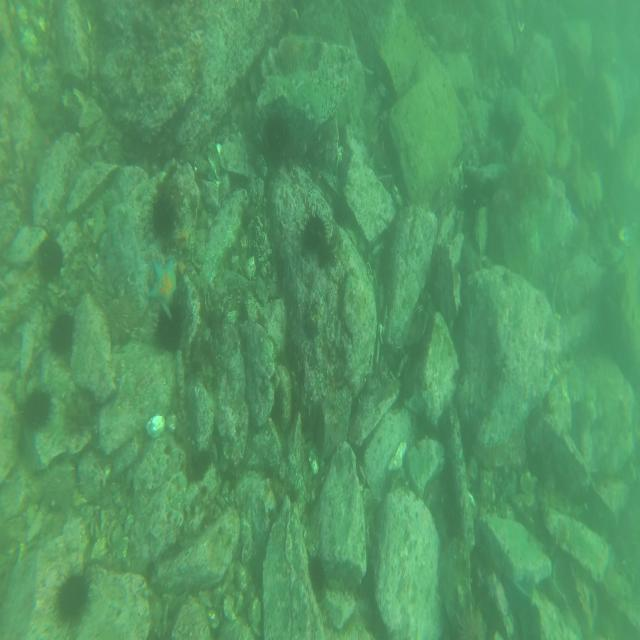echinus: (54, 566, 92, 626), (297, 206, 329, 258), (145, 193, 177, 243), (151, 310, 185, 356), (275, 28, 305, 78), (103, 298, 132, 347), (261, 111, 291, 156), (48, 311, 76, 359), (24, 388, 52, 432), (37, 240, 64, 282), (303, 548, 329, 591)
starfish: (146, 254, 180, 315)
